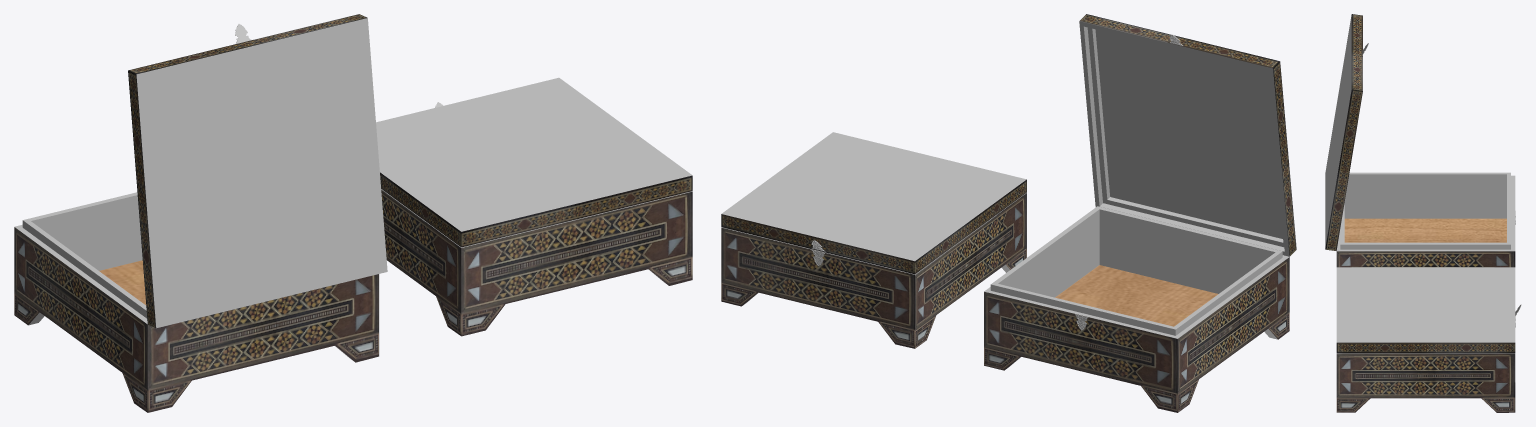
3 views of the same model, side by side, from view 1: azimuth 30°, elevation 25°; view 2: azimuth 150°, elevation 25°; view 3: azimuth 270°, elevation 25° (orthographic). The views are drawn at different scales.
Parts seen in each view (by area): view 1: Line008_4, Line008_2, Line008_5, Line008_3, Line008_6; view 2: Line008_3, Line008_2, Line008_4, Line008_5, Line008_6; view 3: Line008_4, Line008_2, Line008_3, Line008_5, Line008_6.
Boxes of the visible parts, left/top/right/bottom form: Line008_4: left=136, top=18, right=692, bottom=328; Line008_2: left=14, top=189, right=692, bottom=412; Line008_5: left=128, top=14, right=692, bottom=327; Line008_3: left=14, top=189, right=692, bottom=361; Line008_6: left=99, top=260, right=146, bottom=305; Line008_3: left=721, top=21, right=1289, bottom=368; Line008_2: left=721, top=193, right=1289, bottom=412; Line008_4: left=721, top=132, right=1026, bottom=261; Line008_5: left=721, top=14, right=1296, bottom=274; Line008_6: left=1055, top=265, right=1218, bottom=326; Line008_4: left=1325, top=15, right=1515, bottom=342; Line008_2: left=1336, top=251, right=1515, bottom=412; Line008_3: left=1336, top=172, right=1515, bottom=353; Line008_5: left=1325, top=14, right=1515, bottom=353; Line008_6: left=1344, top=218, right=1506, bottom=242.
Size of the model in its own units: 548 by 331 by 256.
